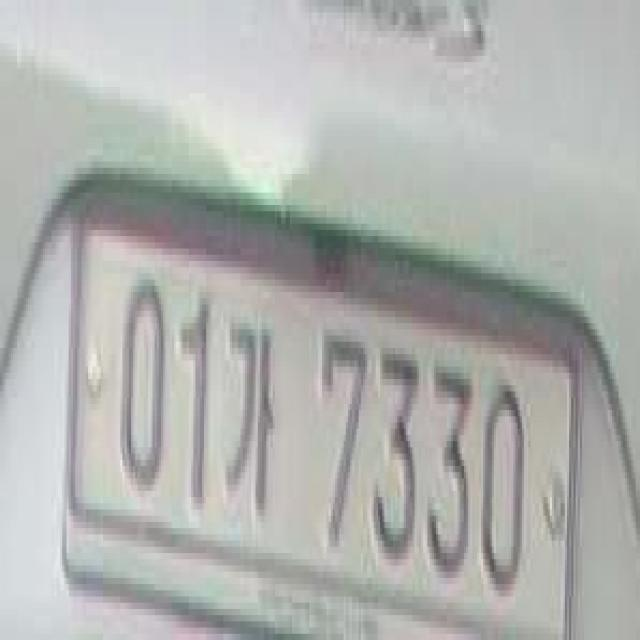illegal_plate: (70, 218, 586, 632)
